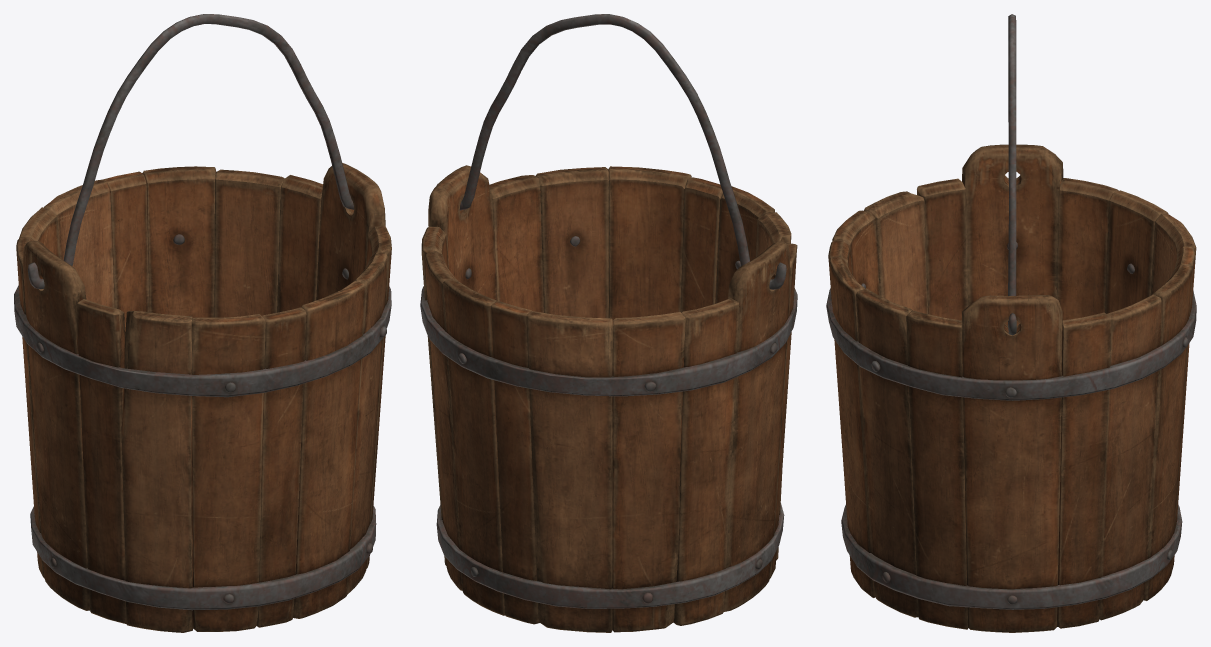
Rendered from wooden_bucket_01_4k.gltf.
3 renders of one model, left to right at view 1: azimuth 30°, elevation 25°; view 2: azimuth 150°, elevation 25°; view 3: azimuth 270°, elevation 25°, orthographic.
Parts seen in each view (by area): view 1: wooden_bucket_01, wooden_bucket_01_handle; view 2: wooden_bucket_01, wooden_bucket_01_handle; view 3: wooden_bucket_01, wooden_bucket_01_handle.
Part boxes in pixels (x1,y1,x2,y2): wooden_bucket_01: (14,163,391,632); wooden_bucket_01_handle: (27,14,354,289); wooden_bucket_01: (420,165,797,632); wooden_bucket_01_handle: (437,14,786,289); wooden_bucket_01: (826,144,1196,632); wooden_bucket_01_handle: (1008,14,1016,335).
Bounding box in the file's own units: 0.367 × 0.5499 × 0.3422.
1 material, 1 textured.
